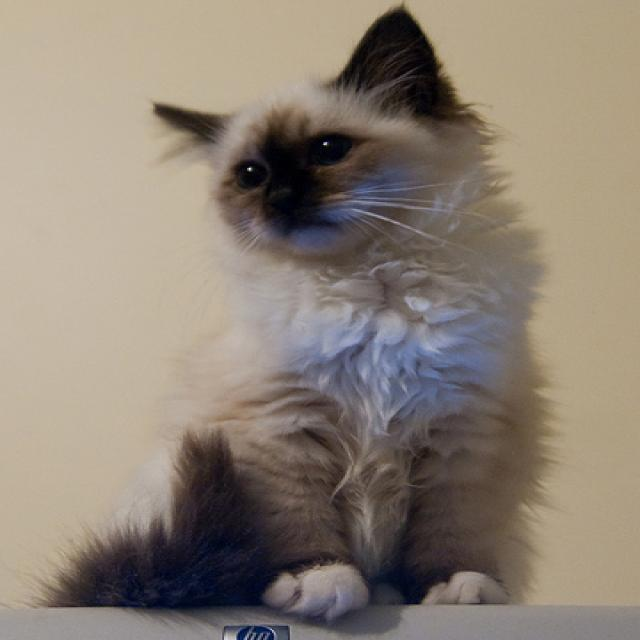Birman: (39, 0, 553, 617)
